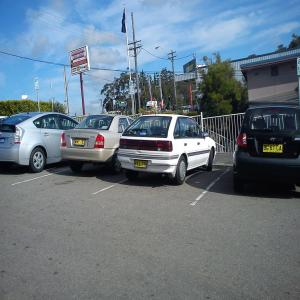Vehicle-registration-plate: (264, 145, 283, 155), (135, 160, 148, 170), (74, 139, 86, 148)
